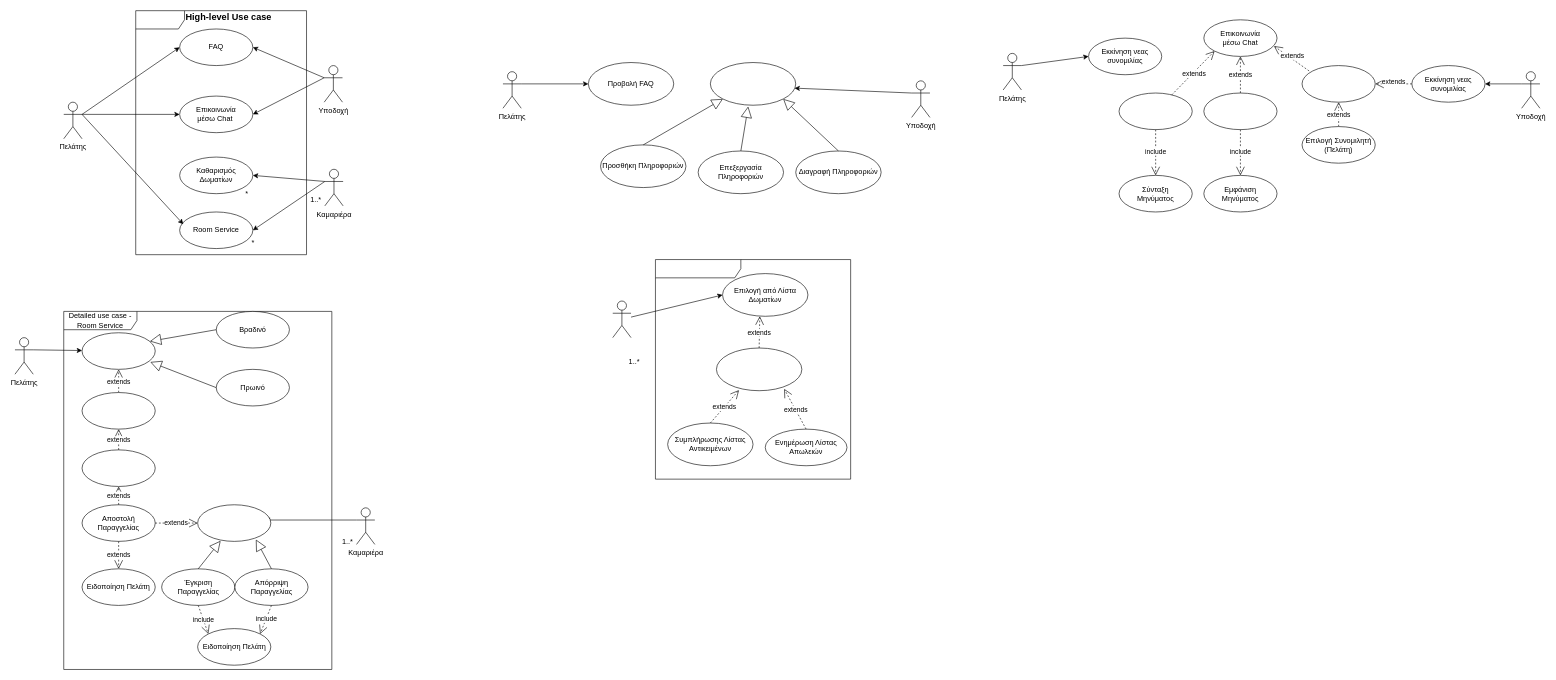
Image size: 1556x680. Some labels were removed from this diagram. Each missing label, with the box of its shape:
Detailed use case - Καθαρισμός Δωματίων: (655, 259, 851, 479)
Έλεγχος Προμηθειών: (197, 504, 271, 541)
Αναφορά Απωλειών: (716, 347, 802, 391)
Αποστολή Μηνύματος: (1118, 92, 1192, 130)
Επεξεργασία FAQ: (710, 62, 796, 105)
Επιλογή Γεύματος: (81, 392, 155, 429)
Επιλογή Είδους Γεύματος: (81, 332, 155, 369)
Επιλογή Ώρας Παράδοσης: (81, 449, 155, 486)
Καμαριέρα: (612, 300, 631, 338)
Λίστα Δωματιών: (1301, 65, 1375, 102)
Παραλαβή Μηνύματος: (1203, 92, 1277, 130)
Προτεινόμενο Σύστημα: (135, 10, 307, 255)
